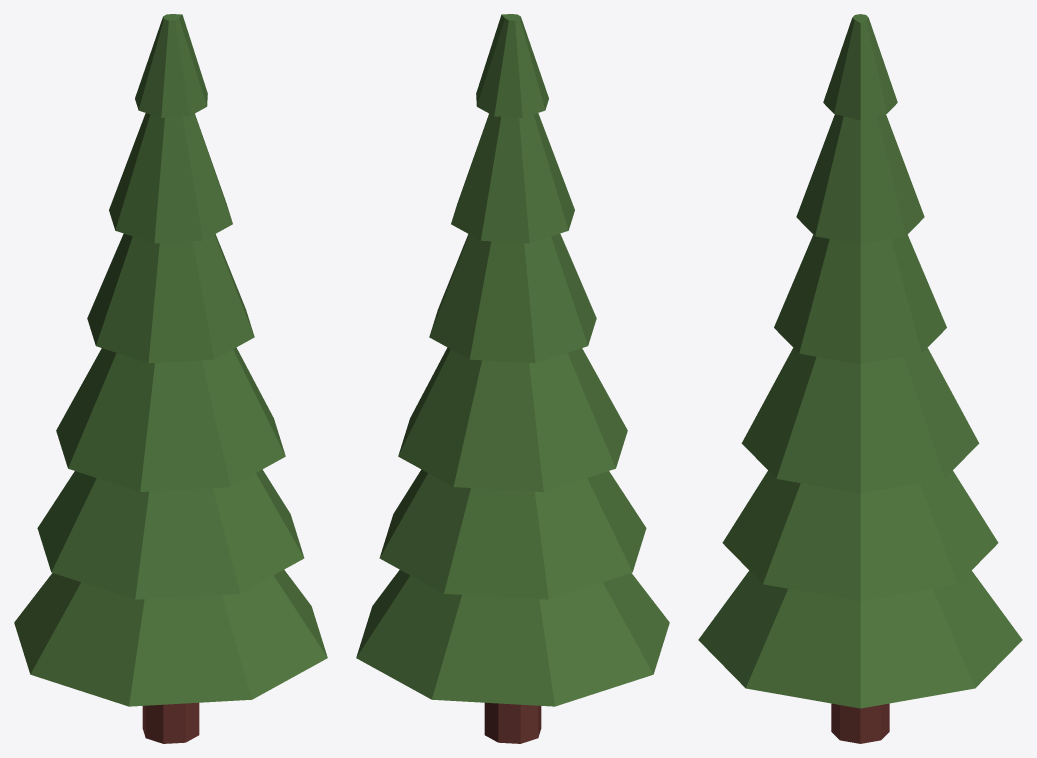
The model's file is Pine_1.fbx.
3 renders of one model, left to right at view 1: azimuth 30°, elevation 25°; view 2: azimuth 150°, elevation 25°; view 3: azimuth 270°, elevation 25°, orthographic.
Parts seen in each view (by area): view 1: Cylinder; view 2: Cylinder; view 3: Cylinder.
Part boxes in pixels (box(x1,y1,x2,y2)): Cylinder: box(14, 14, 327, 743); Cylinder: box(356, 14, 669, 743); Cylinder: box(698, 14, 1022, 743).
Bounding box in the file's own units: 300 × 729 × 300.
